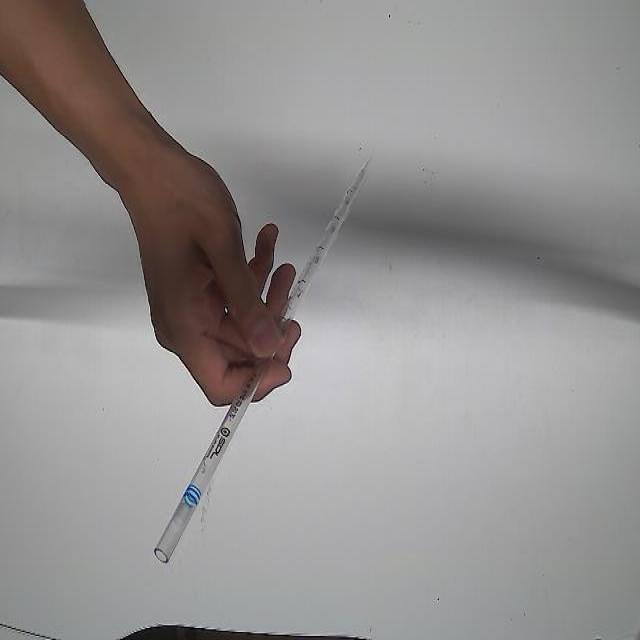Serelogical Pipet 5 mL: (155, 150, 373, 568)
